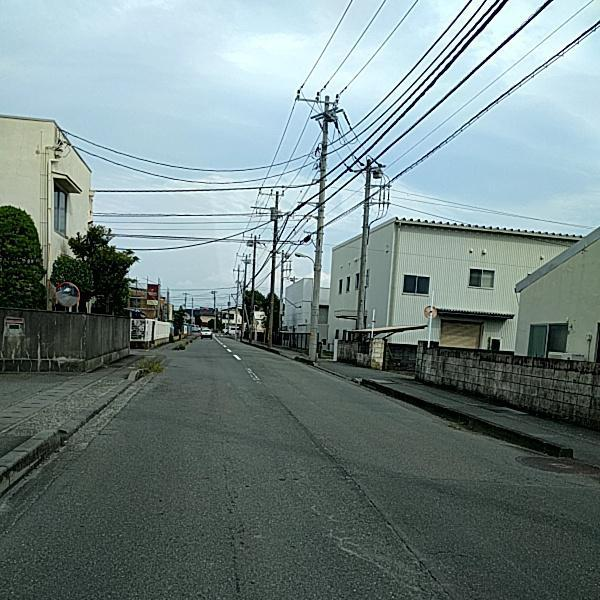D20: (276, 453, 417, 573)
D50: (515, 453, 599, 476)
